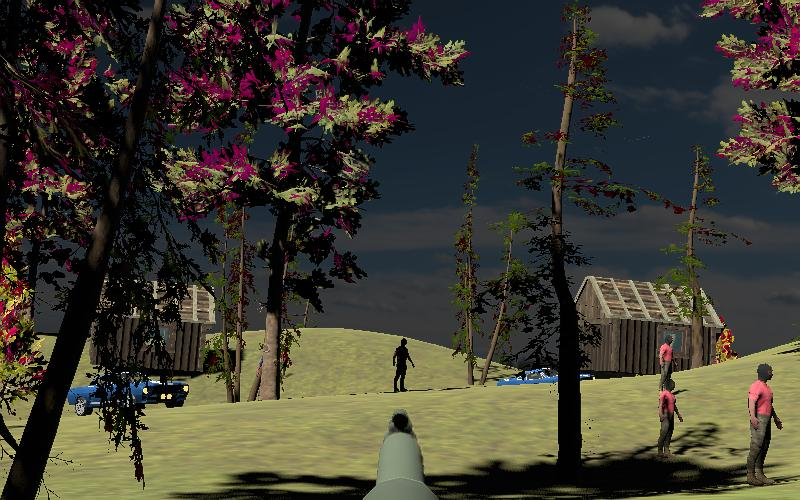Human: (746, 362, 783, 487), (657, 378, 683, 458), (658, 333, 677, 399)
car: (64, 368, 193, 418), (494, 364, 566, 394)
